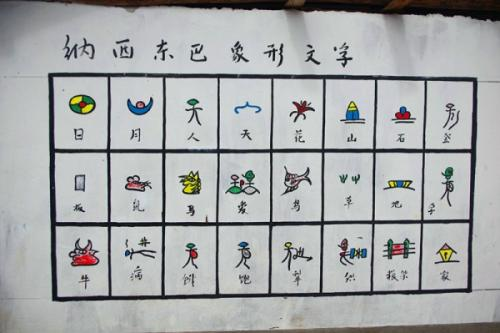chinese: (52, 28, 360, 70), (60, 123, 457, 146), (74, 270, 455, 286), (72, 202, 448, 216)
naxi: (60, 92, 463, 128), (68, 168, 460, 199), (69, 236, 460, 267)
